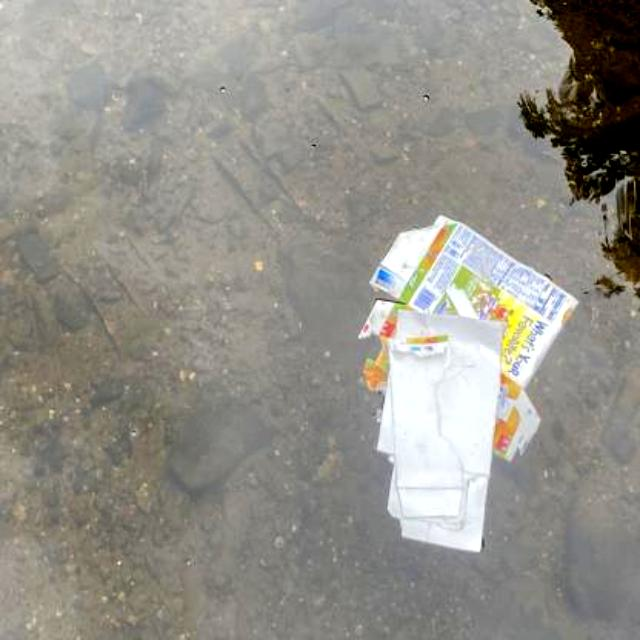Cardboard: (358, 208, 582, 472)
Paper: (371, 299, 509, 569)
